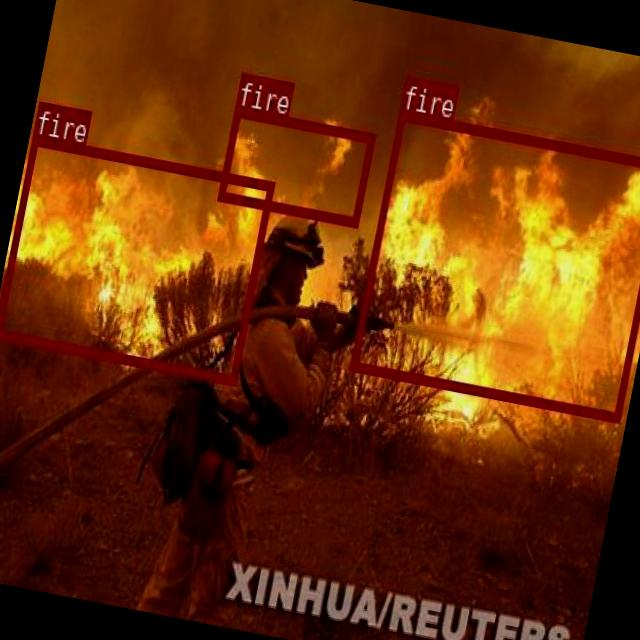fire: (349, 109, 640, 421), (0, 134, 274, 382), (216, 106, 374, 225)
